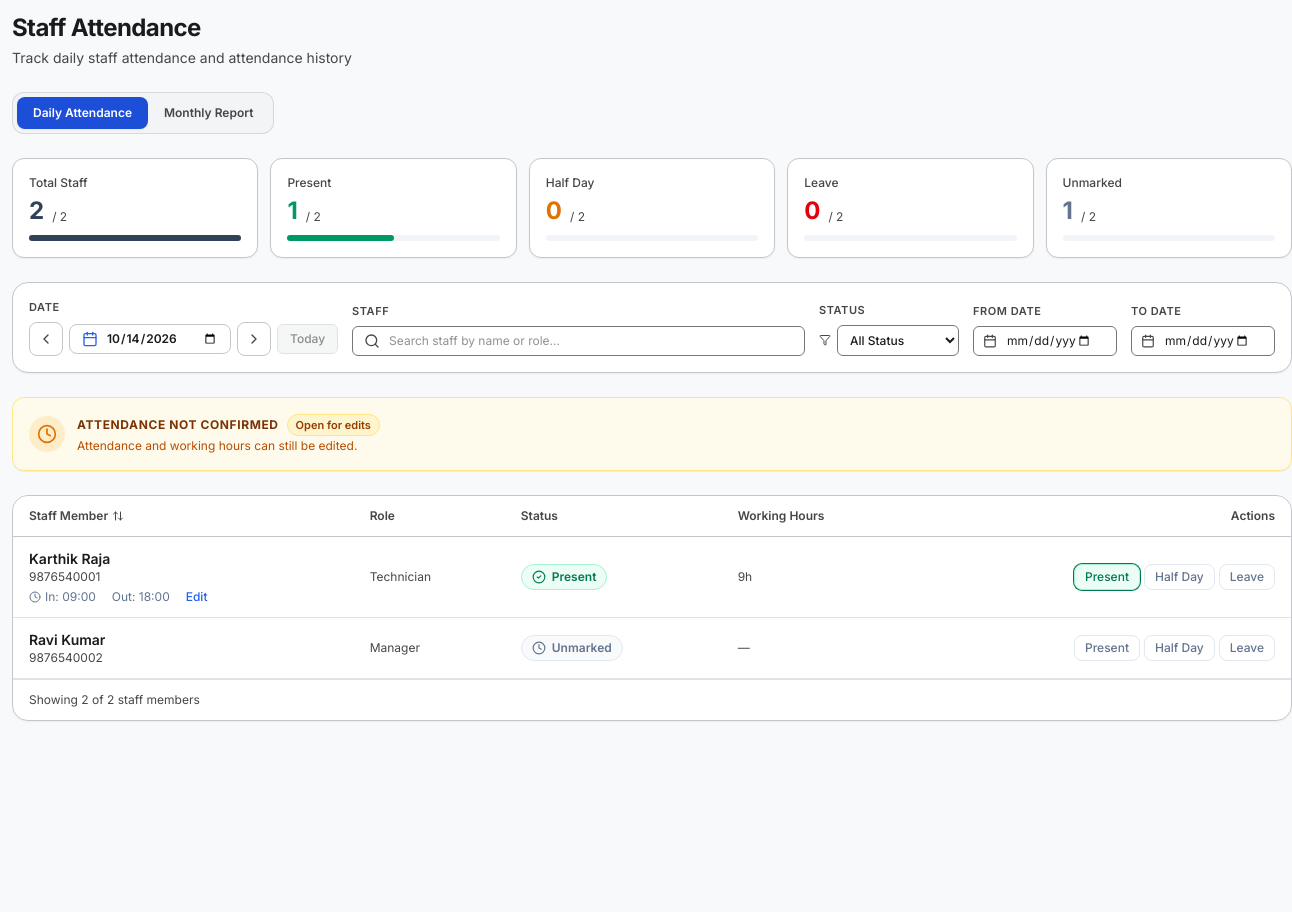
Staff Attendance & Salary › AttendancePage (/staff-attendance) › 4. Staff search remains functional
Expected: the text "Karthik Raja" is shown, [29,550,110,567]
In the field with placeholder "Search staff by name or role...": (579, 340) [352,326,805,356], type "Karthik"
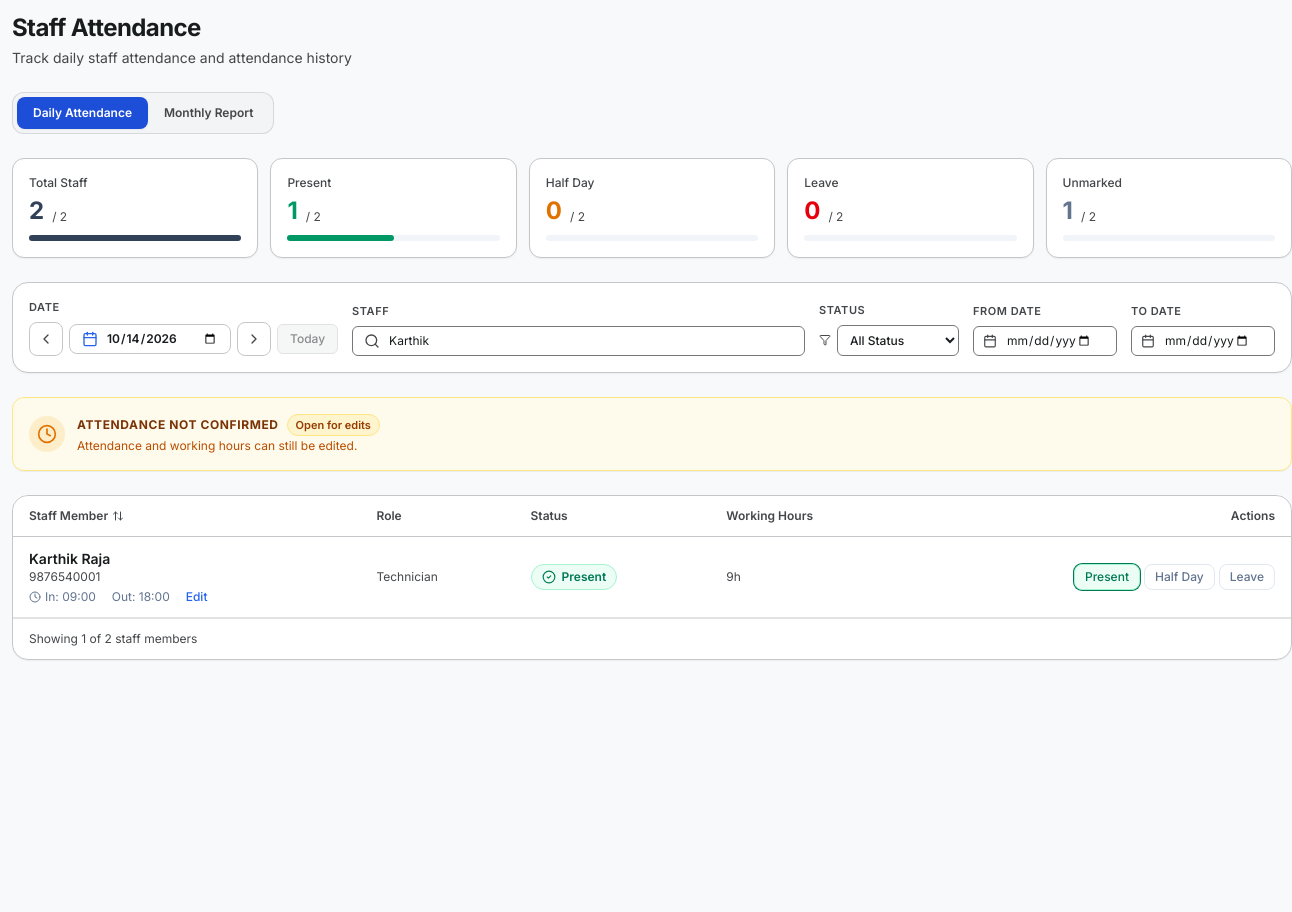
Expected: the text "Karthik Raja" is shown, [29,550,110,567]
Now the text "Ravi Kumar" is gone
